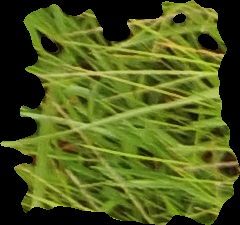grass: (1, 1, 239, 224)
